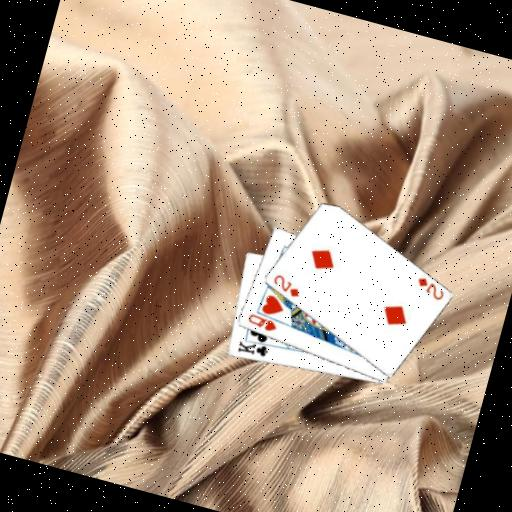2D: (267, 269, 304, 300), (411, 273, 449, 303)
KC: (234, 332, 274, 361)
QH: (242, 309, 279, 334)
